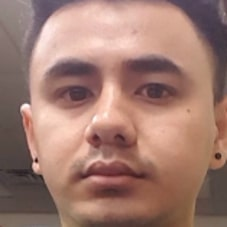awake: (41, 49, 198, 195)
